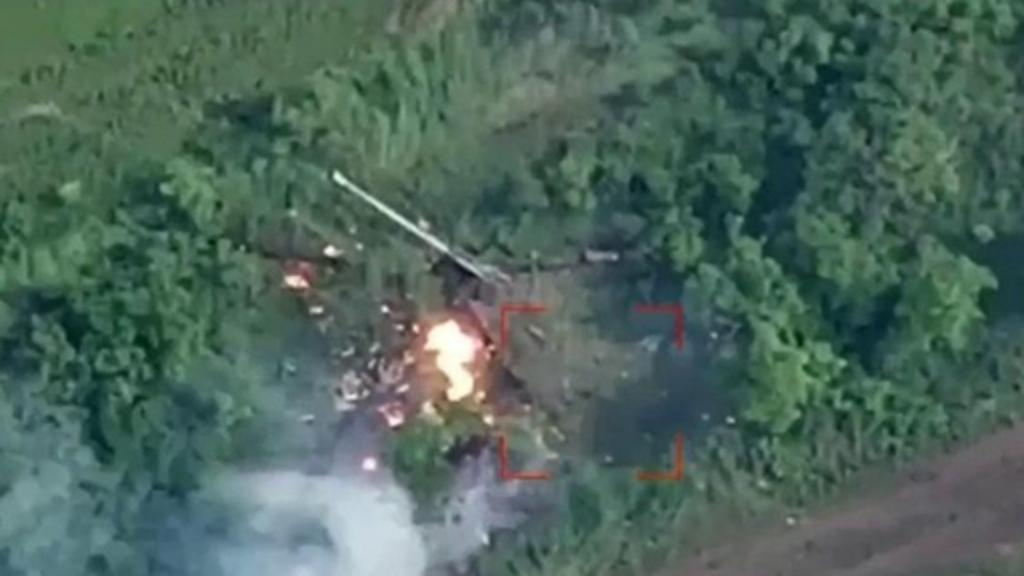ART: (326, 166, 630, 410)
